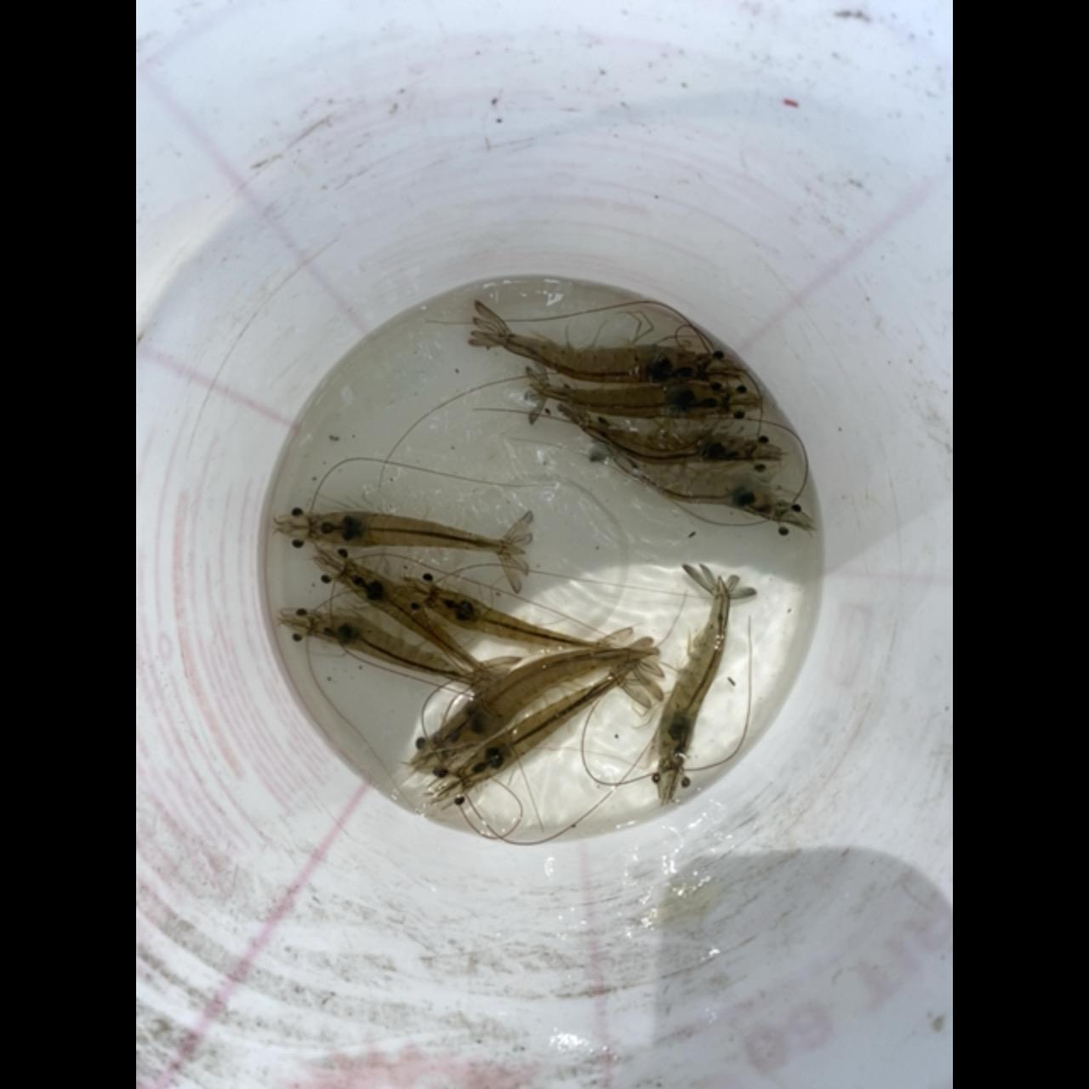round_base: (279, 281, 811, 827)
side_shrimp: (600, 436, 784, 521), (569, 409, 753, 464)
top_shrimp: (457, 653, 643, 789), (435, 648, 647, 757), (336, 568, 499, 679), (658, 578, 730, 773), (429, 587, 620, 652), (483, 330, 704, 384), (309, 613, 470, 681), (310, 512, 526, 554), (531, 380, 732, 418)
